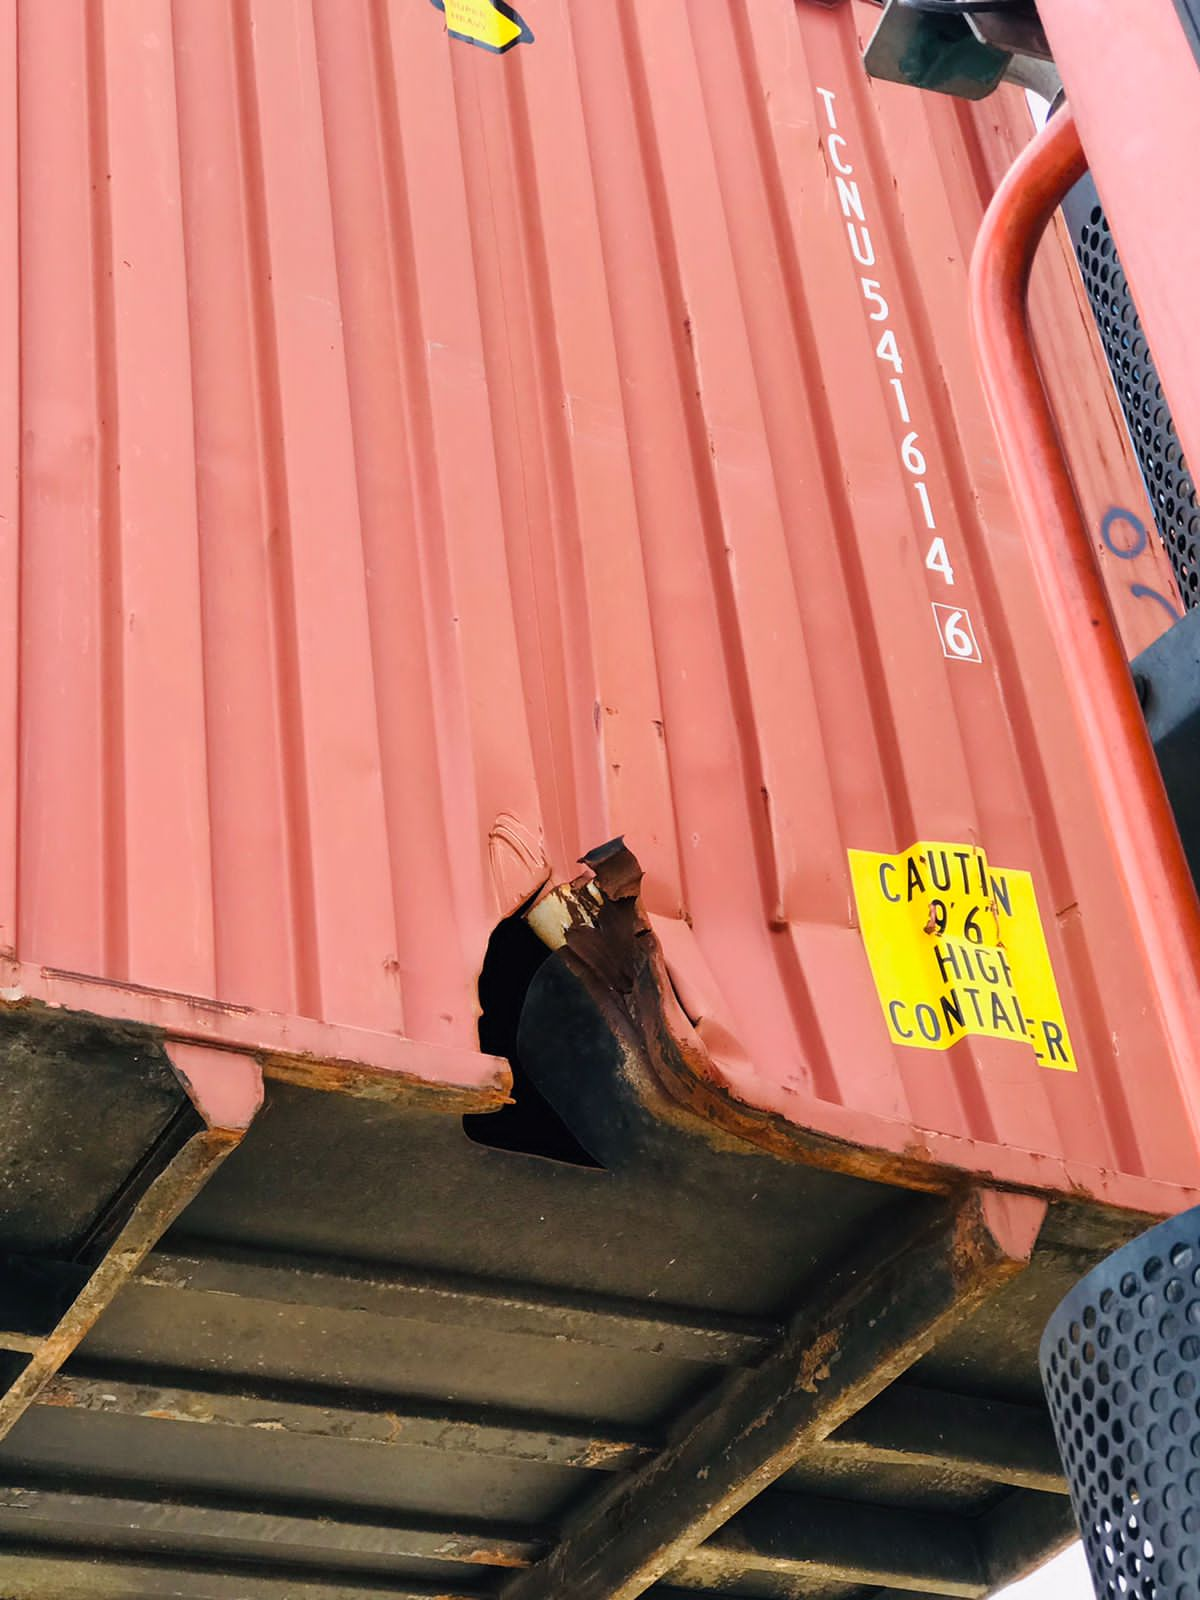dented: (437, 775, 803, 1117)
